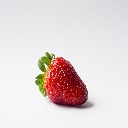strawberry: (34, 52, 90, 107)
